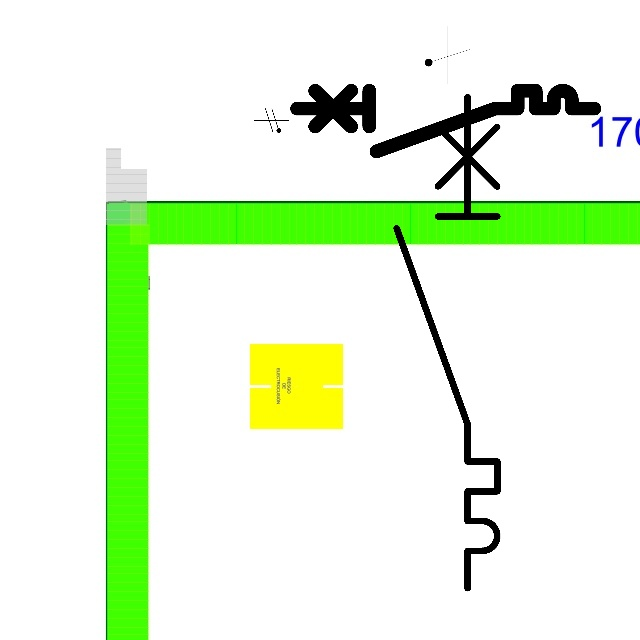interruptor_termomagnetico: (384, 84, 510, 600), (289, 83, 602, 159)
